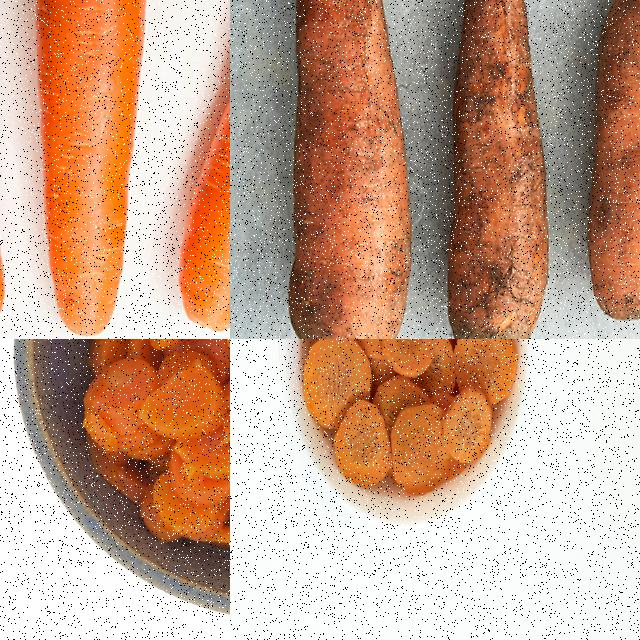carrot: (47, 339, 229, 588), (284, 0, 416, 338), (28, 0, 154, 338), (291, 339, 518, 509), (442, 0, 552, 338), (174, 0, 229, 338), (585, 0, 639, 325)
